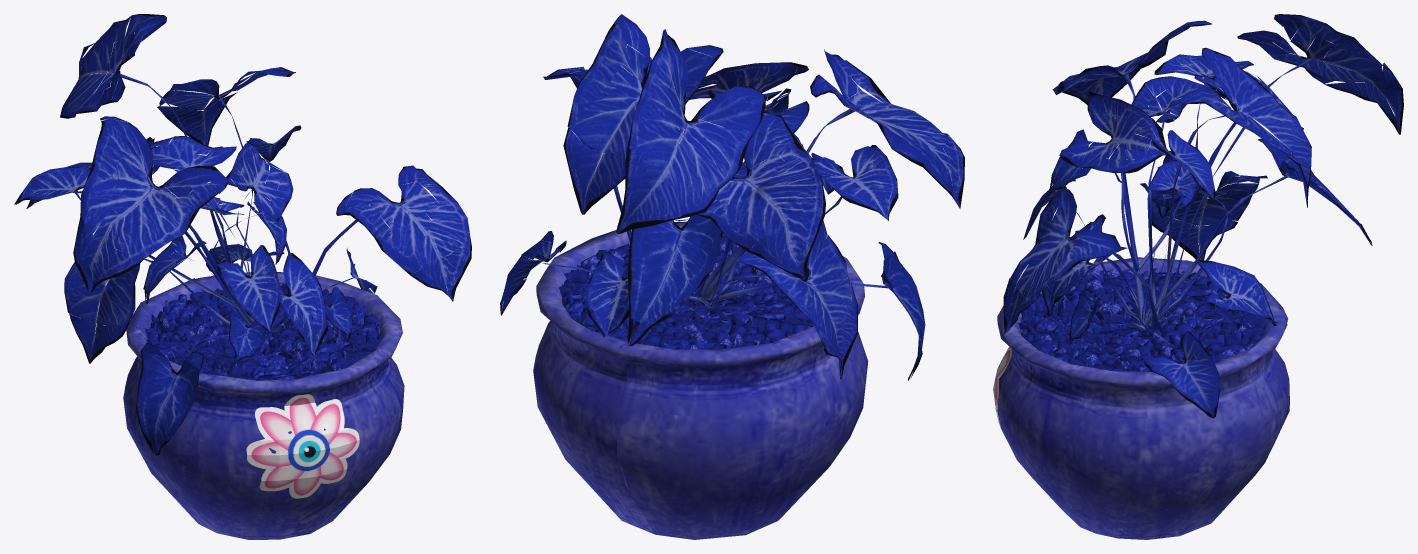
Rendered from nyb_serendipity_planter.glb.
3 renders of one model, left to right at view 1: azimuth 30°, elevation 25°; view 2: azimuth 150°, elevation 25°; view 3: azimuth 270°, elevation 25°, orthographic. The views are drawn at different scales.
Parts seen in each view (by area): view 1: potted_plant_02_pot, stk_eyeflower_die.png; view 2: potted_plant_02_pot; view 3: potted_plant_02_pot.
Boxes of the visible parts, left/top/right/bottom form: potted_plant_02_pot: left=14, top=14, right=471, bottom=539; stk_eyeflower_die.png: left=246, top=394, right=359, bottom=498; potted_plant_02_pot: left=500, top=14, right=964, bottom=539; potted_plant_02_pot: left=997, top=14, right=1403, bottom=539.
Size of the model in its own units: 0.7008 by 0.8423 by 0.6593.
Materials: 3 (3 with a texture image).
